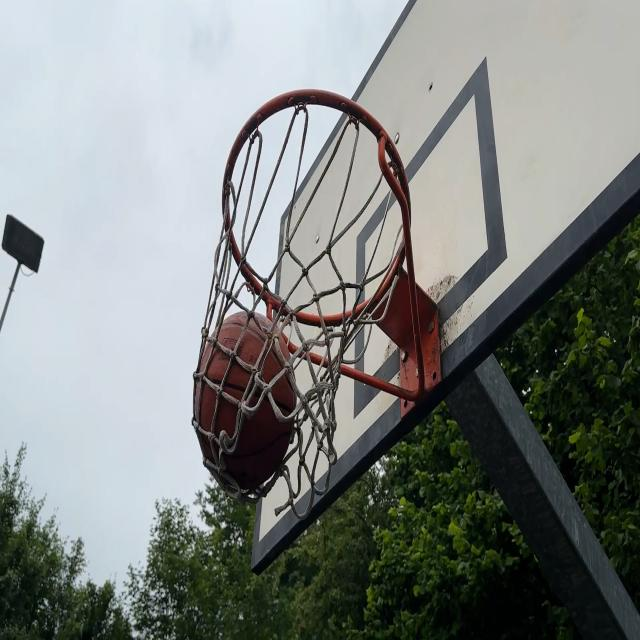Goal: (195, 312, 298, 494)
